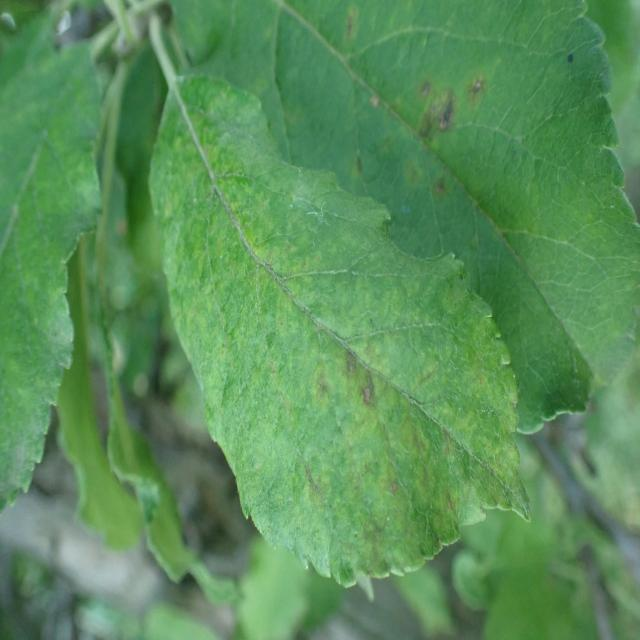scab: (172, 122, 524, 554), (328, 0, 569, 253)
